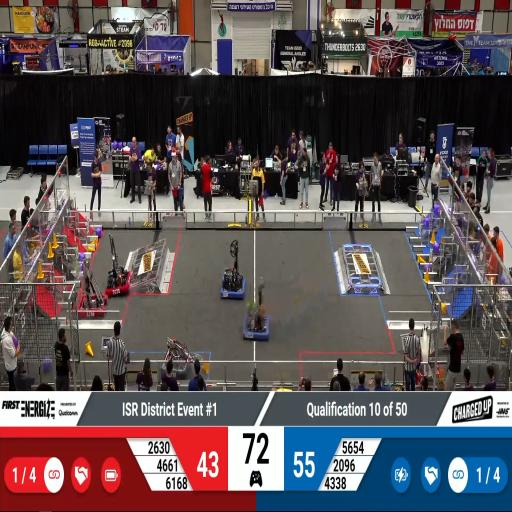robot: (159, 331, 189, 380), (218, 259, 248, 303), (241, 303, 271, 346), (77, 279, 107, 320), (104, 260, 132, 298)
